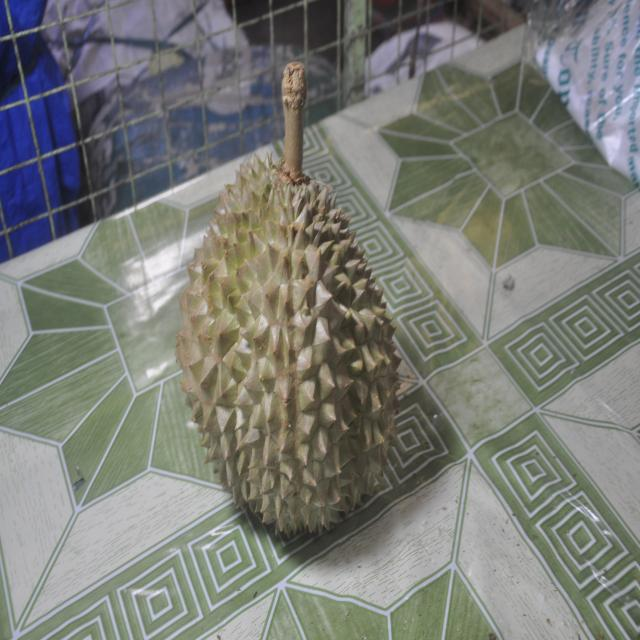mature: (176, 63, 400, 535)
